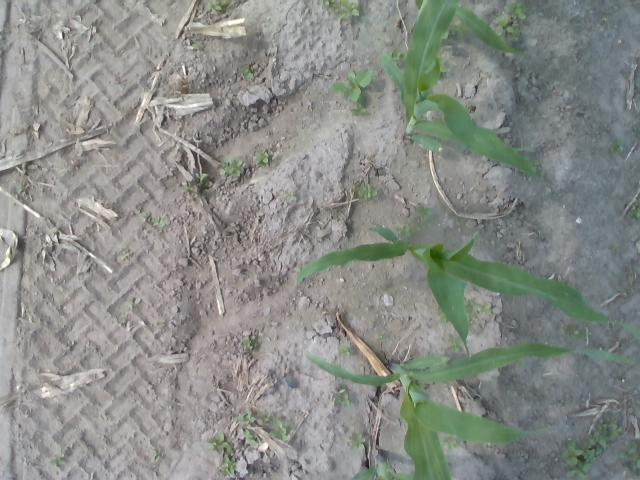Maize: (303, 343, 635, 480), (296, 226, 640, 358), (378, 0, 550, 185), (414, 0, 524, 57), (348, 453, 412, 480)
Weeds: (584, 416, 622, 463), (330, 70, 373, 103), (562, 440, 591, 479), (316, 0, 360, 19), (439, 18, 472, 41), (494, 16, 522, 42), (267, 415, 293, 442), (617, 442, 640, 472), (411, 204, 434, 234), (205, 433, 234, 454), (330, 384, 352, 408), (218, 156, 242, 176), (503, 1, 527, 20), (346, 430, 367, 450), (562, 324, 587, 340), (463, 296, 478, 322), (254, 150, 274, 168), (522, 154, 540, 174), (445, 336, 464, 354), (358, 183, 378, 200), (220, 454, 235, 476), (386, 47, 407, 62), (436, 51, 450, 73), (350, 96, 366, 115), (395, 218, 410, 238), (235, 410, 258, 423), (244, 428, 260, 446), (627, 198, 640, 220), (207, 0, 229, 13), (440, 435, 459, 450), (238, 62, 254, 79), (436, 308, 451, 324), (609, 138, 624, 154), (336, 344, 352, 358), (242, 334, 256, 349), (194, 172, 208, 186), (126, 296, 140, 310), (478, 303, 492, 315), (153, 215, 166, 227), (150, 450, 162, 463), (49, 458, 65, 467), (260, 412, 272, 424), (140, 211, 150, 223), (120, 249, 130, 260), (15, 184, 26, 194), (284, 190, 294, 200), (187, 43, 200, 50), (350, 182, 356, 196), (182, 182, 190, 192), (377, 332, 385, 339)
